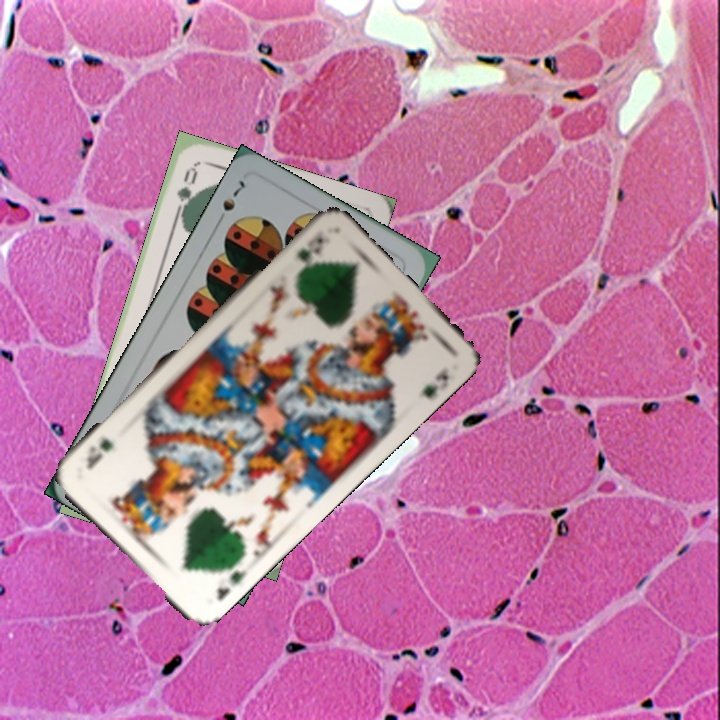GK: (212, 565, 250, 603), (292, 232, 326, 265)
GO: (171, 161, 201, 220)
S7: (212, 176, 248, 228)
